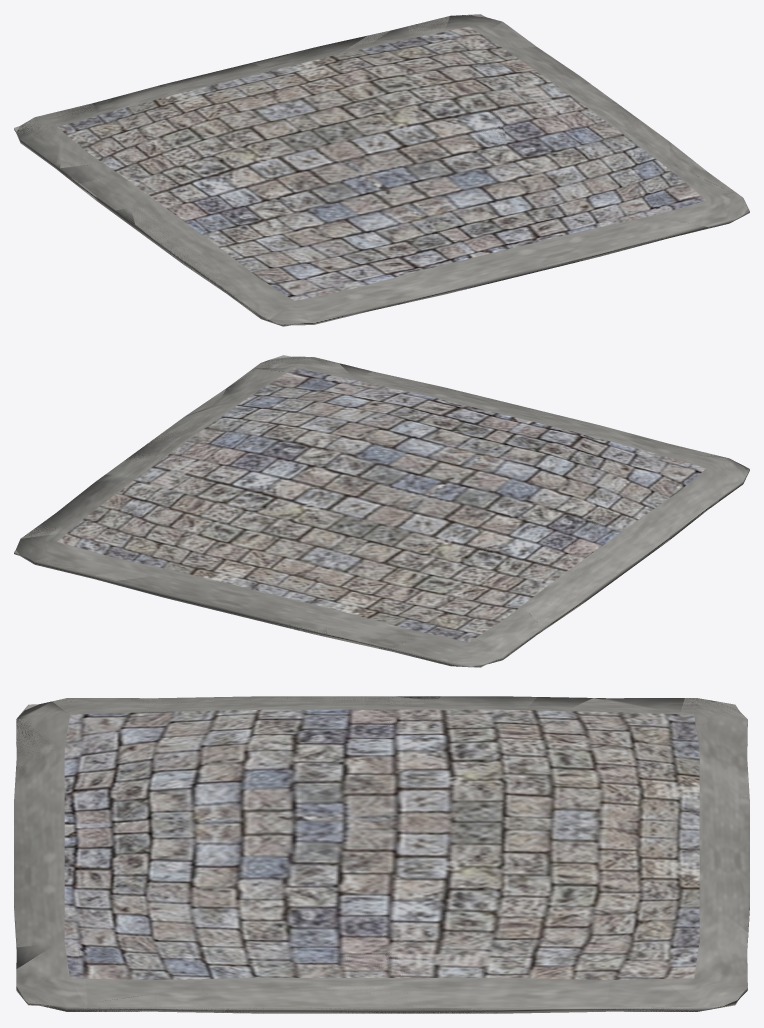
Rendered from plate02_60.fbx.
3 renders of one model, top to bottom at view 1: azimuth 30°, elevation 25°; view 2: azimuth 150°, elevation 25°; view 3: azimuth 270°, elevation 25°, orthographic. The views are drawn at different scales.
Parts seen in each view (by area): view 1: Cube, Cube_cell.047, Cube_cell.008, Cube_cell.021, Cube_cell.032, Cube_cell.027, Cube_cell, Cube_cell.037, Cube_cell.010, Cube_cell.044, Cube_cell.028, Cube_cell.045 (+17 smaller); view 2: Cube, Cube_cell.047, Cube_cell.008, Cube_cell.027, Cube_cell.021, Cube_cell.032, Cube_cell.037, Cube_cell.044, Cube_cell.010, Cube_cell.028, Cube_cell.050, Cube_cell.014 (+18 smaller); view 3: Cube, Cube_cell.008, Cube_cell.032, Cube_cell.027, Cube_cell.047, Cube_cell.021, Cube_cell.010, Cube_cell.037, Cube_cell.044, Cube_cell.050, Cube_cell.017, Cube_cell (+19 smaller).
Boxes of the visible parts, x1,y1,x2,y2 form: Cube: (14, 14, 749, 326); Cube_cell.047: (14, 16, 749, 326); Cube_cell.008: (310, 108, 459, 167); Cube_cell.021: (124, 124, 225, 182); Cube_cell.032: (437, 35, 590, 86); Cube_cell.027: (98, 86, 223, 128); Cube_cell: (454, 83, 578, 166); Cube_cell.037: (166, 108, 280, 161); Cube_cell.010: (272, 57, 414, 95); Cube_cell.044: (223, 66, 324, 113); Cube_cell.028: (218, 150, 343, 206); Cube_cell.045: (60, 122, 132, 167); Cube: (21, 355, 749, 667); Cube_cell.047: (14, 357, 749, 667); Cube_cell.008: (272, 469, 390, 549); Cube_cell.027: (327, 584, 437, 648); Cube_cell.021: (416, 554, 542, 610); Cube_cell.032: (55, 474, 199, 532); Cube_cell.037: (354, 542, 466, 598); Cube_cell.044: (239, 549, 356, 598); Cube_cell.010: (179, 528, 280, 593); Cube_cell.028: (421, 495, 516, 553); Cube_cell.050: (78, 533, 188, 575); Cube_cell.014: (383, 484, 470, 542); Cube: (14, 696, 749, 1013); Cube_cell.008: (326, 819, 559, 884); Cube_cell.032: (470, 916, 660, 1013); Cube_cell.027: (621, 738, 749, 808); Cube_cell.047: (14, 696, 749, 1013); Cube_cell.021: (458, 716, 634, 762); Cube_cell.010: (573, 853, 714, 908); Cube_cell.037: (475, 761, 623, 806); Cube_cell.044: (559, 798, 723, 856); Cube_cell.050: (610, 901, 747, 962); Cube_cell.017: (482, 840, 587, 913); Cube_cell: (269, 889, 490, 994).
Size of the model in its own units: 401 by 20.47 by 402.
